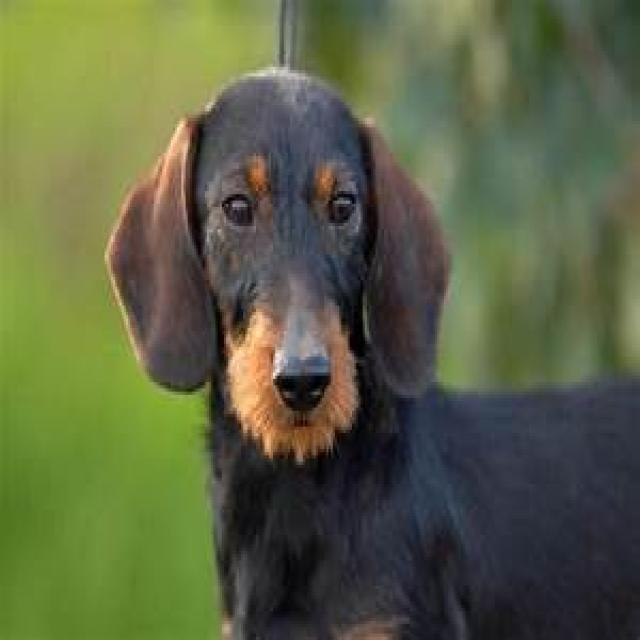dog: (102, 67, 640, 640)
